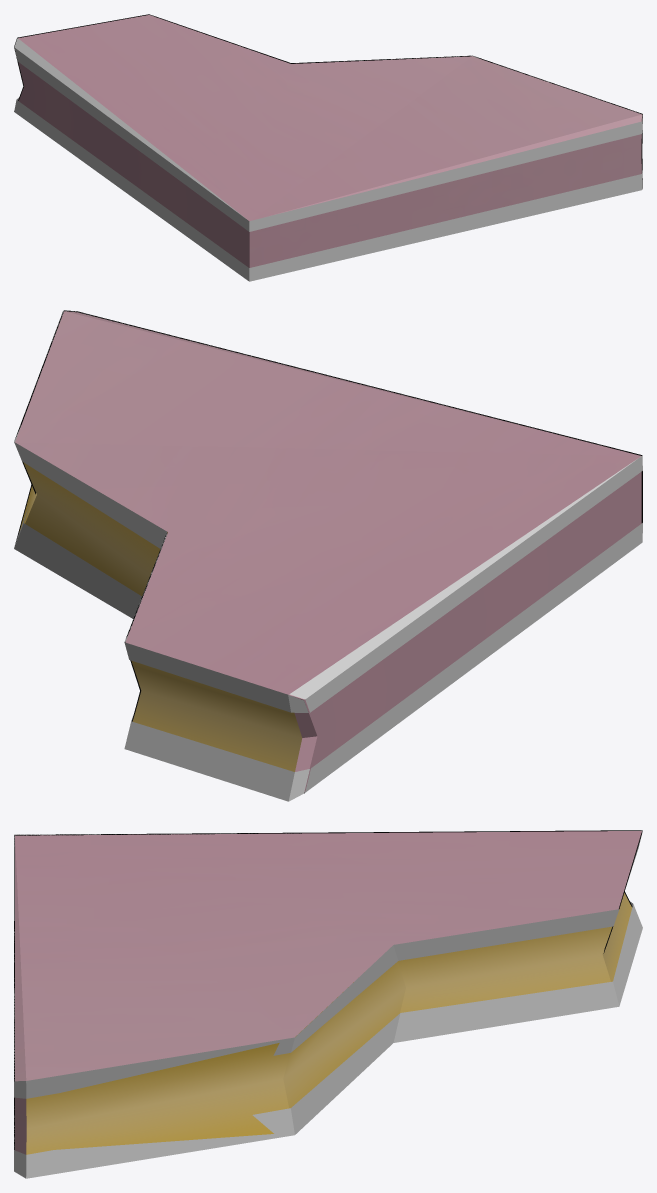
The model's file is Rooms_Paradise_Wall_CornerBroken_Art.fbx.
3 renders of one model, top to bottom at view 1: azimuth 30°, elevation 25°; view 2: azimuth 150°, elevation 25°; view 3: azimuth 270°, elevation 25°, orthographic. The views are drawn at different scales.
Visible parts, largest first — view 1: Rooms_Paradise_Wall_CornerBroken_Art, Rooms_Paradise_Wall_CornerBroken_Shadows, Rooms_Paradise_Wall_CornerBroken_Outline; view 2: Rooms_Paradise_Wall_CornerBroken_Art, Rooms_Paradise_Wall_CornerBroken_Shadows, Rooms_Paradise_Wall_CornerBroken_Outline; view 3: Rooms_Paradise_Wall_CornerBroken_Art, Rooms_Paradise_Wall_CornerBroken_Shadows, Rooms_Paradise_Wall_CornerBroken_Outline.
Part boxes in pixels (box(x1,y1,x2,y2)): Rooms_Paradise_Wall_CornerBroken_Art: box(18, 15, 642, 267); Rooms_Paradise_Wall_CornerBroken_Shadows: box(14, 14, 642, 281); Rooms_Paradise_Wall_CornerBroken_Outline: box(14, 14, 642, 179); Rooms_Paradise_Wall_CornerBroken_Art: box(15, 311, 641, 791); Rooms_Paradise_Wall_CornerBroken_Shadows: box(14, 310, 642, 801); Rooms_Paradise_Wall_CornerBroken_Outline: box(15, 310, 642, 793); Rooms_Paradise_Wall_CornerBroken_Art: box(15, 831, 641, 1154); Rooms_Paradise_Wall_CornerBroken_Shadows: box(14, 830, 642, 1178); Rooms_Paradise_Wall_CornerBroken_Outline: box(14, 830, 642, 1149).
Size of the model in its own units: 184 by 32.82 by 191.
